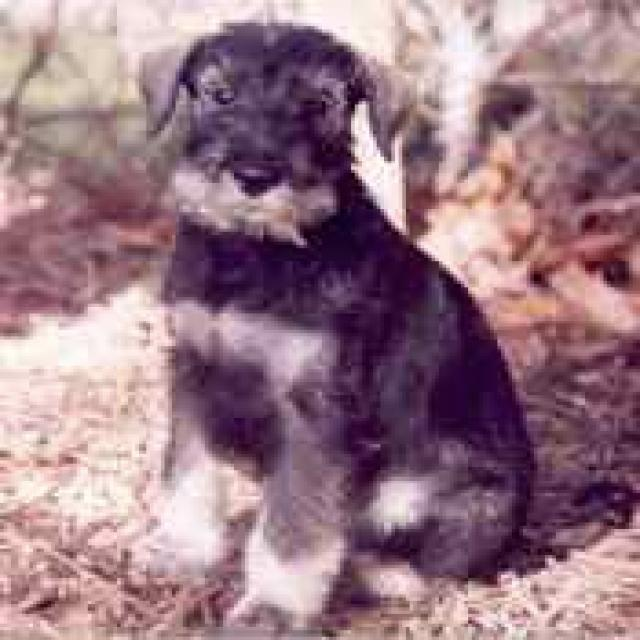standard_schnauzer: (117, 16, 545, 636)
